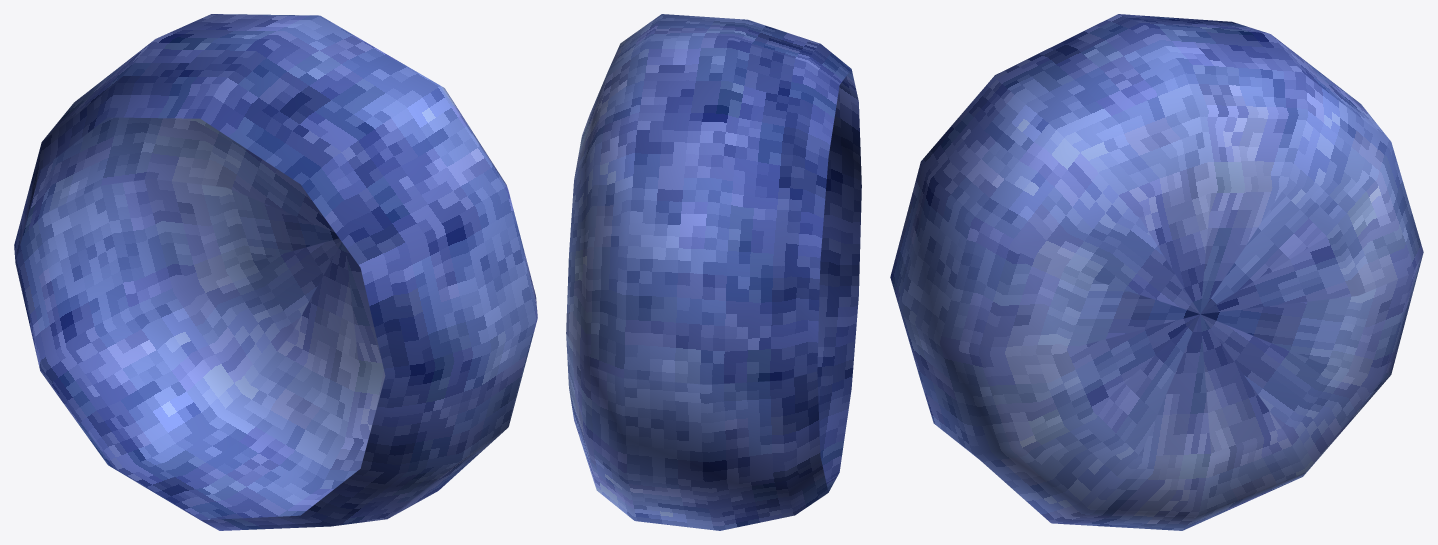
File: cap_hat_puffy.dae
The picture shows the model from 3 angles, left to right: view 1: azimuth 30°, elevation 25°; view 2: azimuth 150°, elevation 25°; view 3: azimuth 270°, elevation 25°; orthographic projection. The views are drawn at different scales.
Visible parts, largest first — view 1: cap_hat_puffy; view 2: cap_hat_puffy; view 3: cap_hat_puffy.
Part boxes in pixels (x1,y1,x2,y2): cap_hat_puffy: [14, 14, 537, 530]; cap_hat_puffy: [566, 14, 861, 530]; cap_hat_puffy: [890, 14, 1423, 530].
Size of the model in its own units: 19.65 by 25.43 by 25.81.
Materials: 1 (1 with a texture image).
